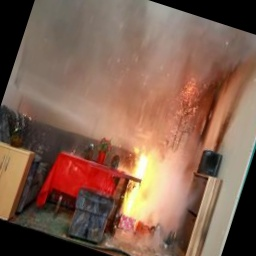fire: (114, 143, 170, 215)
smoke: (155, 147, 202, 235)
